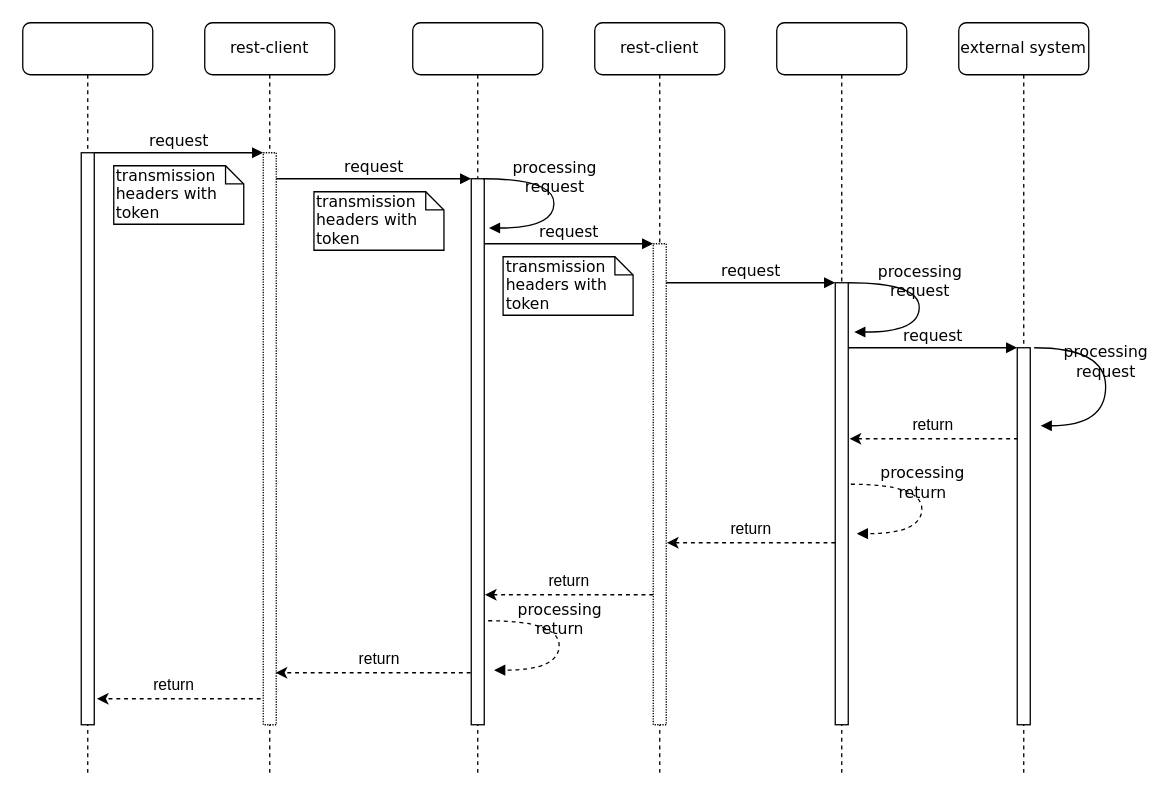
The diagram is 1170 pixels wide and 800 high, and some of its shapes have lost their labels. The box of each missing label's shape, as (x1, y1, x2, y2) in pixels:
integration-module: (775, 21, 907, 777)
integration-service: (411, 21, 543, 777)
task-handler: (21, 21, 153, 777)
